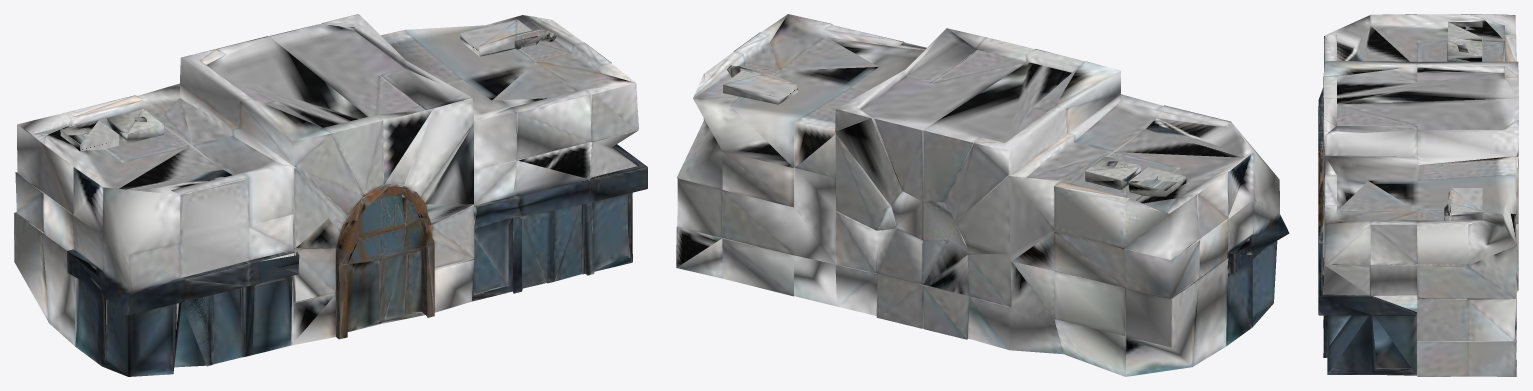
The model's file is 13-shopping-mall.glb.
3 renders of one model, left to right at view 1: azimuth 30°, elevation 25°; view 2: azimuth 150°, elevation 25°; view 3: azimuth 270°, elevation 25°, orthographic. The views are drawn at different scales.
Visible parts, largest first — view 1: geometry_0; view 2: geometry_0; view 3: geometry_0.
Part boxes in pixels (bbox=[...]): geometry_0: bbox=[14, 14, 647, 376]; geometry_0: bbox=[676, 14, 1289, 376]; geometry_0: bbox=[1318, 14, 1518, 376].
Bounding box in the file's own units: 0.9492 × 0.356 × 0.373.
1 material, 1 textured.
